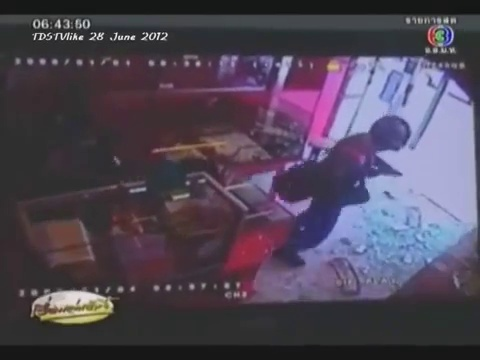helmet: (371, 110, 412, 155)
